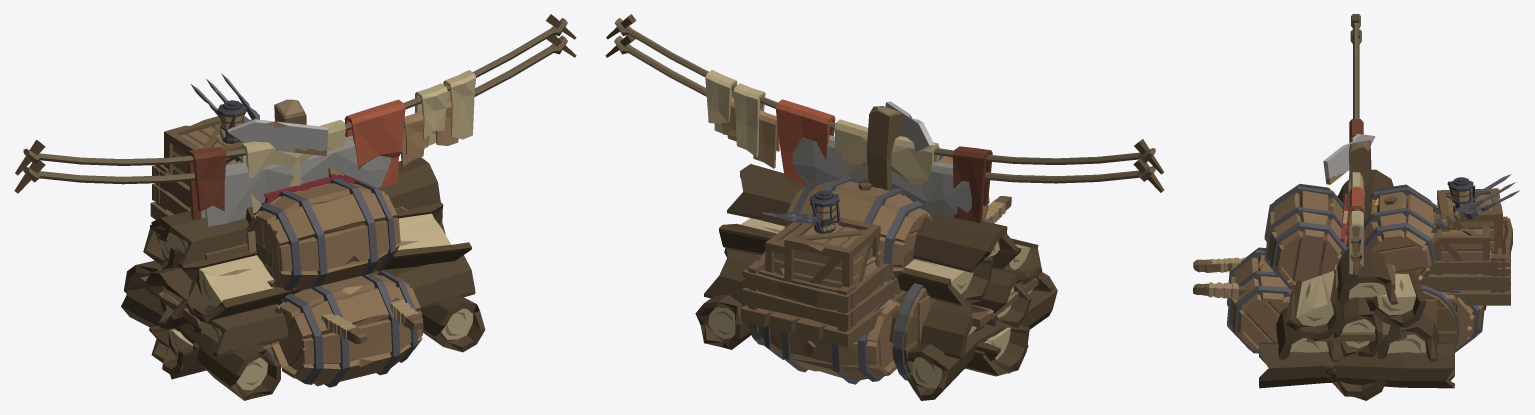
File: props.glb
The picture shows the model from 3 angles, left to right: view 1: azimuth 30°, elevation 25°; view 2: azimuth 150°, elevation 25°; view 3: azimuth 270°, elevation 25°; orthographic projection. The views are drawn at different scales.
Visible parts, largest first — view 1: SM_Prop_Logpile_01, SM_Prop_Barrel_02, SM_Prop_Washingline_03, SM_Prop_Washingline_02, SM_Prop_Cart_02, SM_Prop_RoadSign_01, SM_Prop_Cart_03, SM_Prop_Loghalf_01, SM_Prop_Stall_Table_01, SM_Prop_Loghalf_02; view 2: SM_Prop_Logpile_01, SM_Prop_Washingline_03, SM_Prop_Cart_02, SM_Prop_Barrel_02, SM_Prop_Washingline_02, SM_Prop_Cart_01, SM_Prop_Cart_03, SM_Prop_RoadSign_01, SM_Prop_Washingline_01, SM_Prop_Loghalf_01, SM_Prop_Loghalf_02, SM_Prop_Stall_Table_01; view 3: SM_Prop_Logpile_01, SM_Prop_Barrel_02, SM_Prop_Cart_03, SM_Prop_Cart_02, SM_Prop_Cart_01, SM_Prop_Washingline_03, SM_Prop_RoadSign_01, SM_Prop_Stall_Table_01, SM_Prop_Loghalf_01, SM_Prop_Washingline_02, SM_Prop_Washingline_01.
Part boxes in pixels (<box>): SM_Prop_Logpile_01: <box>121,157,485,400</box>; SM_Prop_Barrel_02: <box>226,156,422,387</box>; SM_Prop_Washingline_03: <box>15,14,576,219</box>; SM_Prop_Washingline_02: <box>15,34,576,226</box>; SM_Prop_Cart_02: <box>150,100,418,332</box>; SM_Prop_RoadSign_01: <box>227,99,360,203</box>; SM_Prop_Cart_03: <box>156,73,423,386</box>; SM_Prop_Loghalf_01: <box>149,325,201,373</box>; SM_Prop_Stall_Table_01: <box>140,206,407,328</box>; SM_Prop_Loghalf_02: <box>151,336,206,379</box>; SM_Prop_Logpile_01: <box>695,164,1057,400</box>; SM_Prop_Washingline_03: <box>606,14,1163,223</box>; SM_Prop_Cart_02: <box>741,190,1006,376</box>; SM_Prop_Barrel_02: <box>759,155,994,384</box>; SM_Prop_Washingline_02: <box>617,34,1164,217</box>; SM_Prop_Cart_01: <box>741,217,1000,380</box>; SM_Prop_Cart_03: <box>747,188,1011,347</box>; SM_Prop_RoadSign_01: <box>866,101,934,190</box>; SM_Prop_Washingline_01: <box>605,35,1162,192</box>; SM_Prop_Loghalf_01: <box>975,324,1028,373</box>; SM_Prop_Loghalf_02: <box>966,325,1029,376</box>; SM_Prop_Stall_Table_01: <box>757,212,1038,368</box>; SM_Prop_Logpile_01: <box>1259,169,1454,388</box>; SM_Prop_Barrel_02: <box>1227,184,1486,353</box>; SM_Prop_Cart_03: <box>1193,174,1519,315</box>; SM_Prop_Cart_02: <box>1204,177,1512,344</box>; SM_Prop_Cart_01: <box>1204,221,1512,347</box>; SM_Prop_Washingline_03: <box>1346,14,1364,274</box>; SM_Prop_RoadSign_01: <box>1323,134,1375,242</box>; SM_Prop_Stall_Table_01: <box>1307,264,1406,341</box>; SM_Prop_Loghalf_01: <box>1325,343,1380,397</box>; SM_Prop_Washingline_02: <box>1346,29,1364,299</box>; SM_Prop_Washingline_01: <box>1352,29,1361,275</box>.
Bounding box in the file's own units: 5.55 × 2.6 × 3.31.
Materials: 1 (1 with a texture image).
